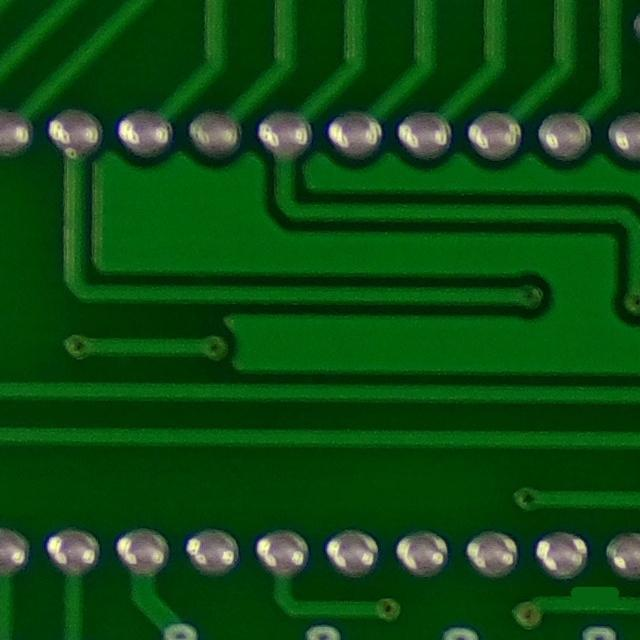spur: (563, 573, 628, 616)
